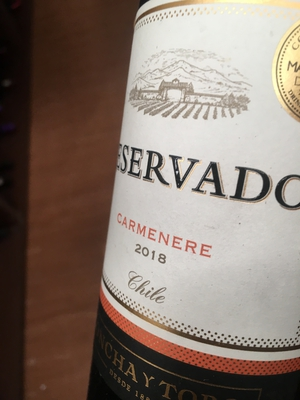reservado carmenere: (88, 1, 300, 397)
